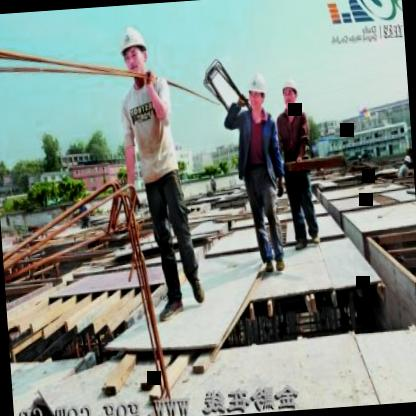helmet: (115, 19, 152, 84), (247, 69, 272, 117), (277, 78, 302, 112)
